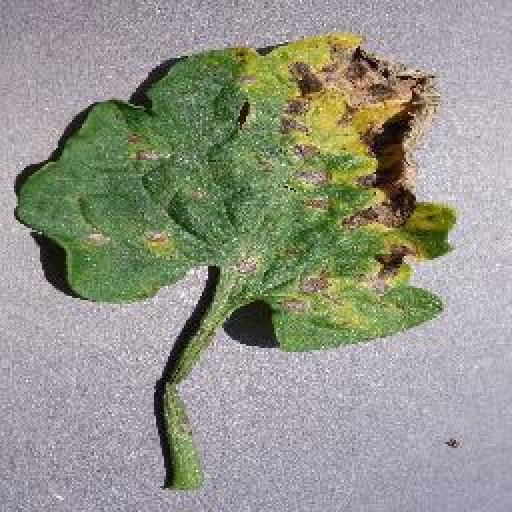Septoria: (15, 29, 460, 360)
